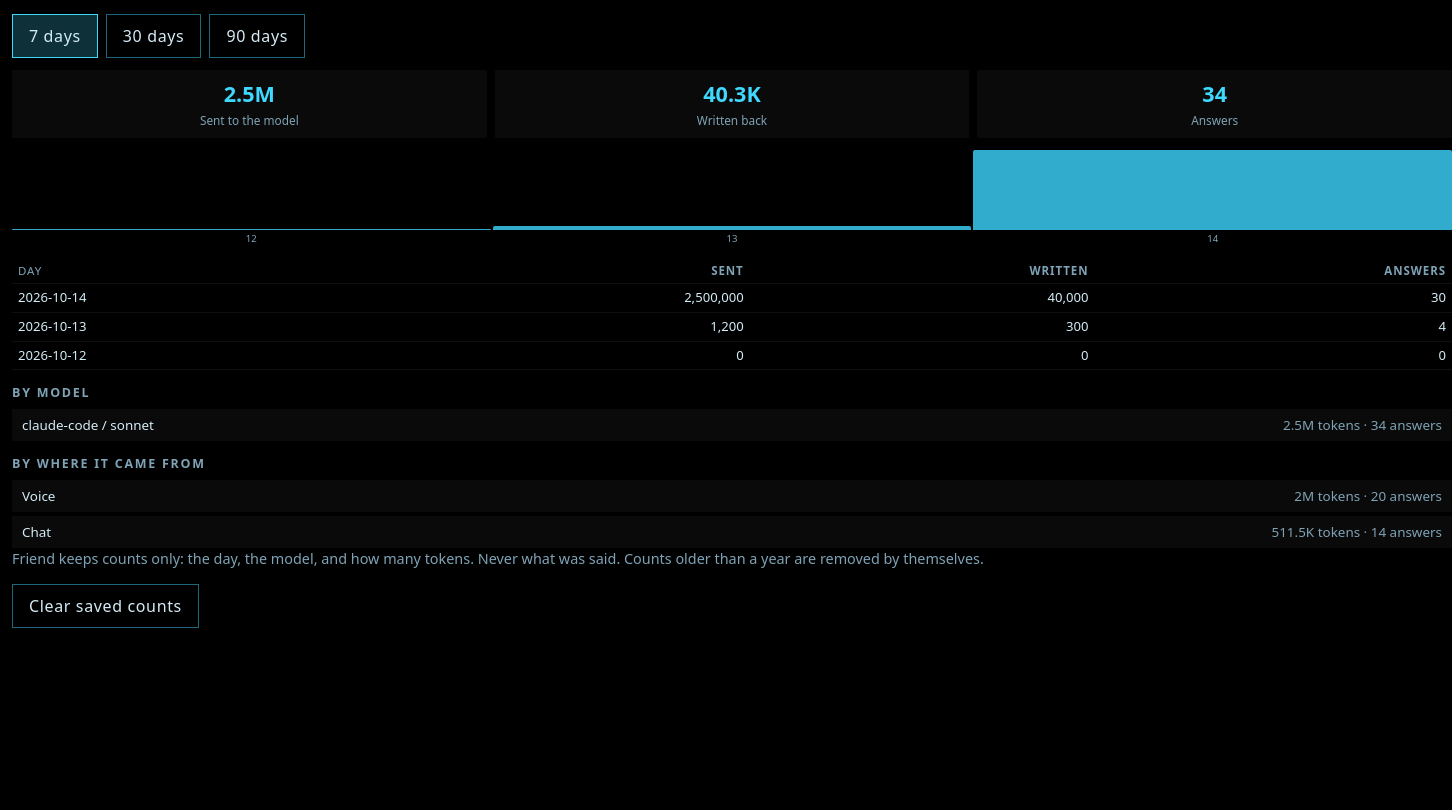
Test: the usage page › clears the counts only after being asked twice
The image size is (1452, 810).
Click the button "Clear saved counts".
click(105, 606)  # box left=12, top=584, right=199, bottom=628
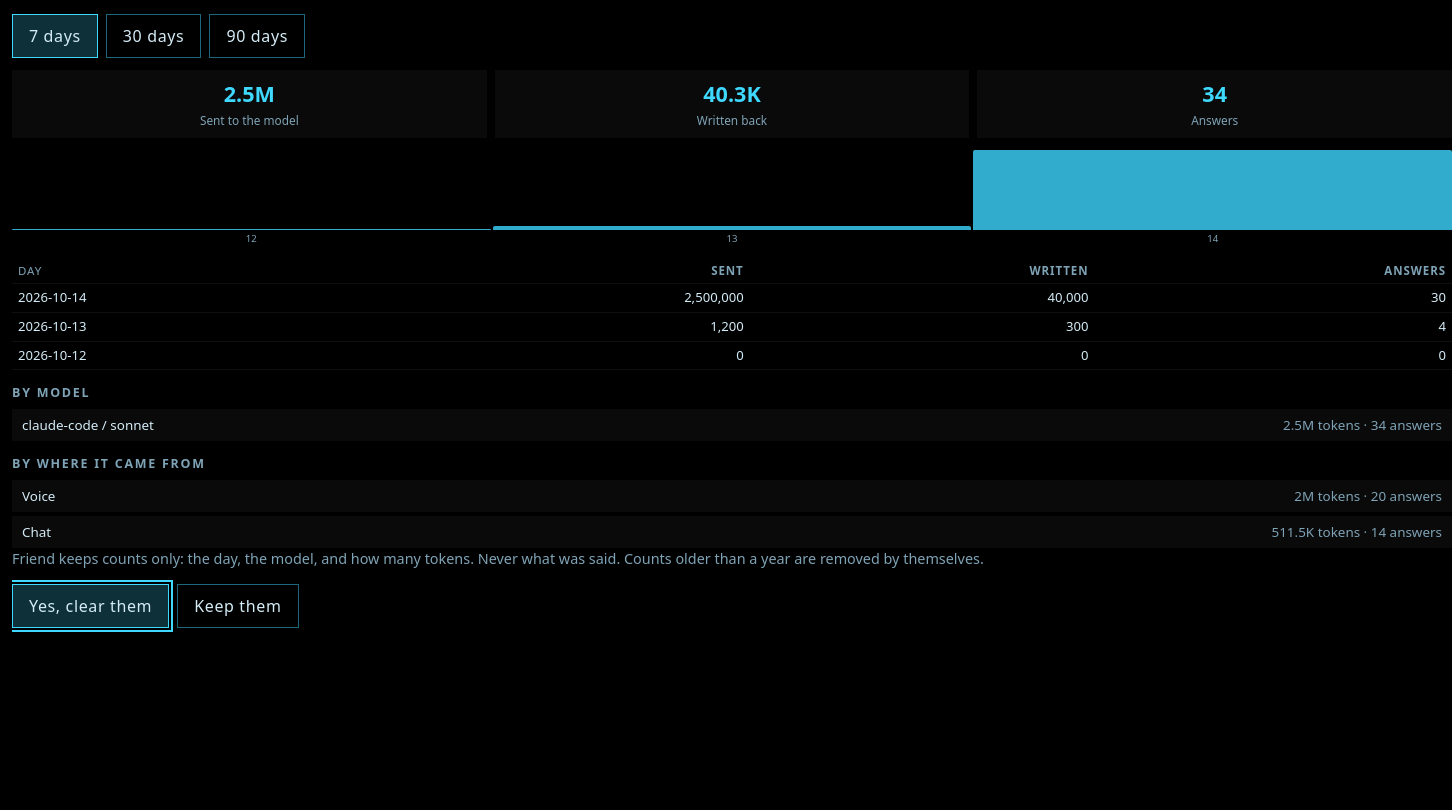
Click the button "Yes, clear them".
click(91, 606)  # box left=12, top=584, right=169, bottom=628
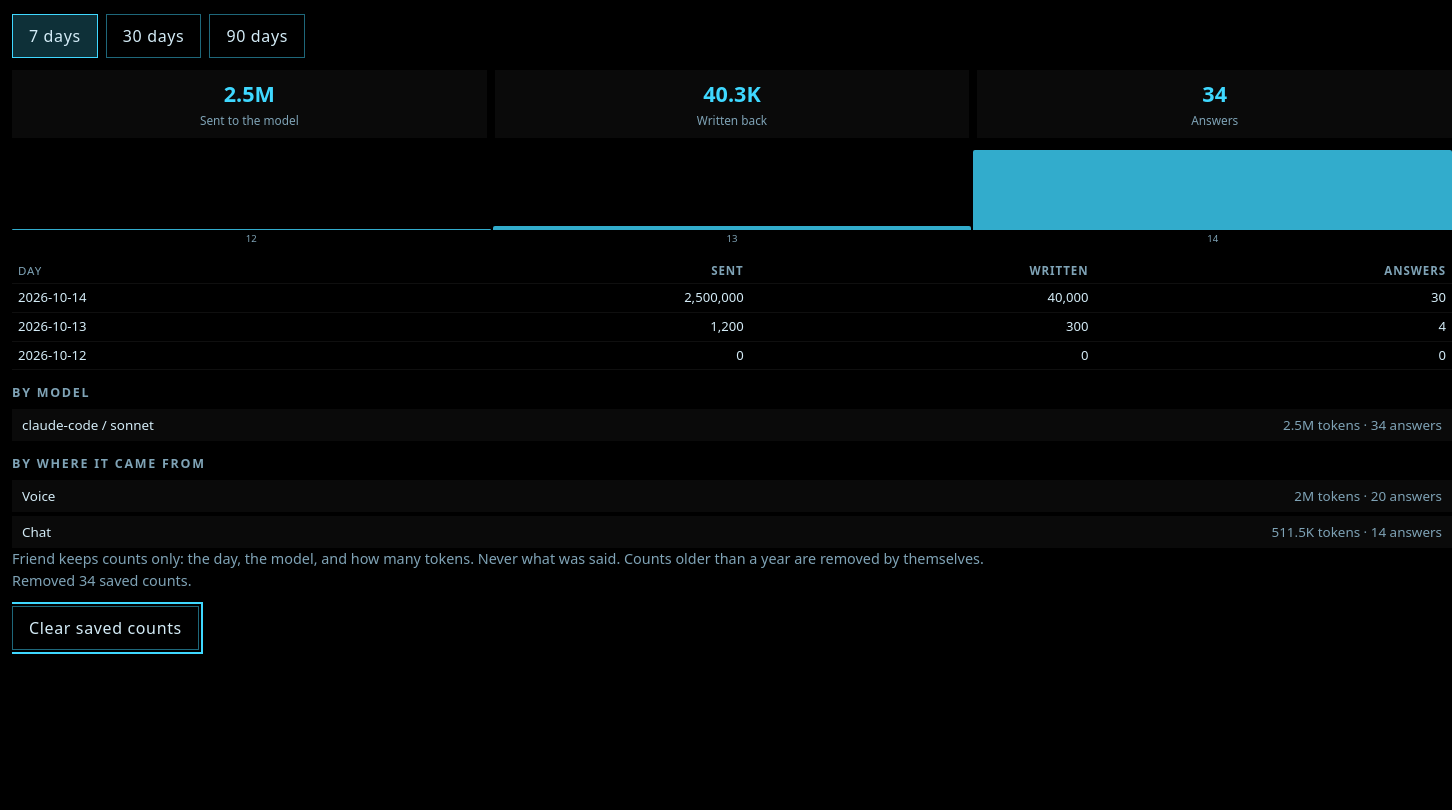
Result: the text "Removed 34 saved counts." is shown at left=12, top=571, right=192, bottom=590
